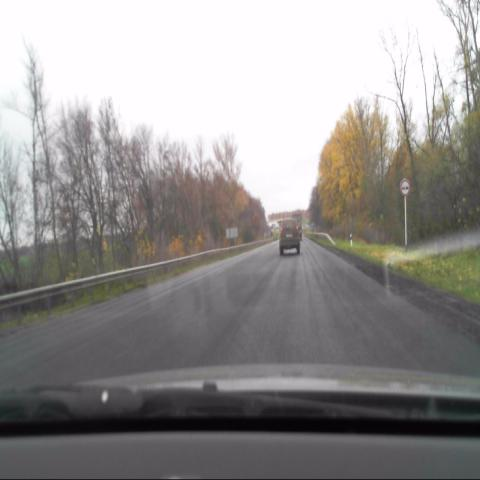3_20: (400, 178, 412, 199)
